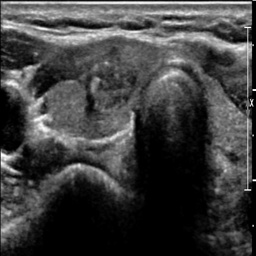mass: (79, 51, 133, 110)
